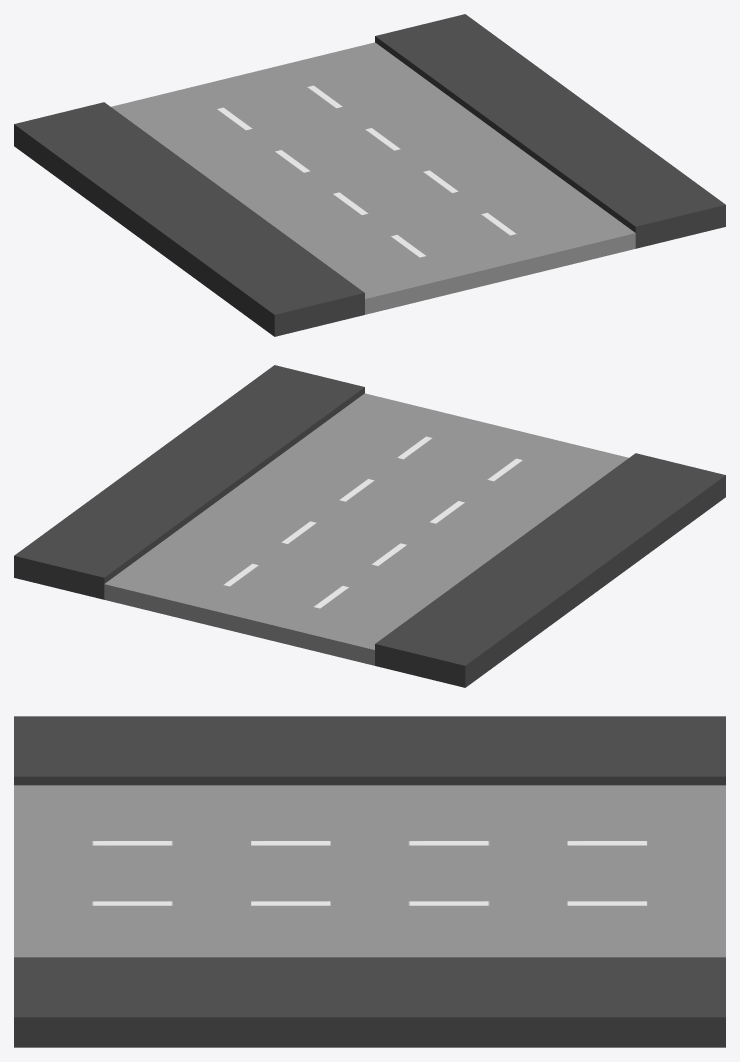
Rendered from BO_test_4_unity_GEO_grp.fbx.
The picture shows the model from 3 angles, top to bottom: view 1: azimuth 30°, elevation 25°; view 2: azimuth 150°, elevation 25°; view 3: azimuth 270°, elevation 25°; orthographic projection. The views are drawn at different scales.
Visible parts, largest first — view 1: side_walk_L_GEO, side_walk_R_GEO, blank_road_GEO, road_roadLines_GEO1, road_roadLines_GEO; view 2: side_walk_L_GEO, side_walk_R_GEO, blank_road_GEO, road_roadLines_GEO1, road_roadLines_GEO; view 3: side_walk_R_GEO, side_walk_L_GEO, road_roadLines_GEO, road_roadLines_GEO1, blank_road_GEO.
Boxes of the visible parts, bbox=[...] form: side_walk_L_GEO: bbox=[14, 102, 364, 336]; side_walk_R_GEO: bbox=[375, 14, 725, 248]; blank_road_GEO: bbox=[285, 42, 635, 270]; road_roadLines_GEO1: bbox=[195, 64, 545, 292]; road_roadLines_GEO: bbox=[111, 86, 454, 314]; side_walk_L_GEO: bbox=[375, 453, 725, 687]; side_walk_R_GEO: bbox=[14, 365, 364, 599]; blank_road_GEO: bbox=[104, 393, 454, 621]; road_roadLines_GEO1: bbox=[194, 415, 544, 643]; road_roadLines_GEO: bbox=[285, 437, 628, 665]; side_walk_R_GEO: bbox=[14, 957, 725, 1047]; side_walk_L_GEO: bbox=[14, 716, 725, 785]; road_roadLines_GEO: bbox=[14, 785, 725, 845]; road_roadLines_GEO1: bbox=[14, 845, 725, 905]; blank_road_GEO: bbox=[14, 905, 725, 957].
Size of the model in its own units: 30 by 1.4 by 30.
